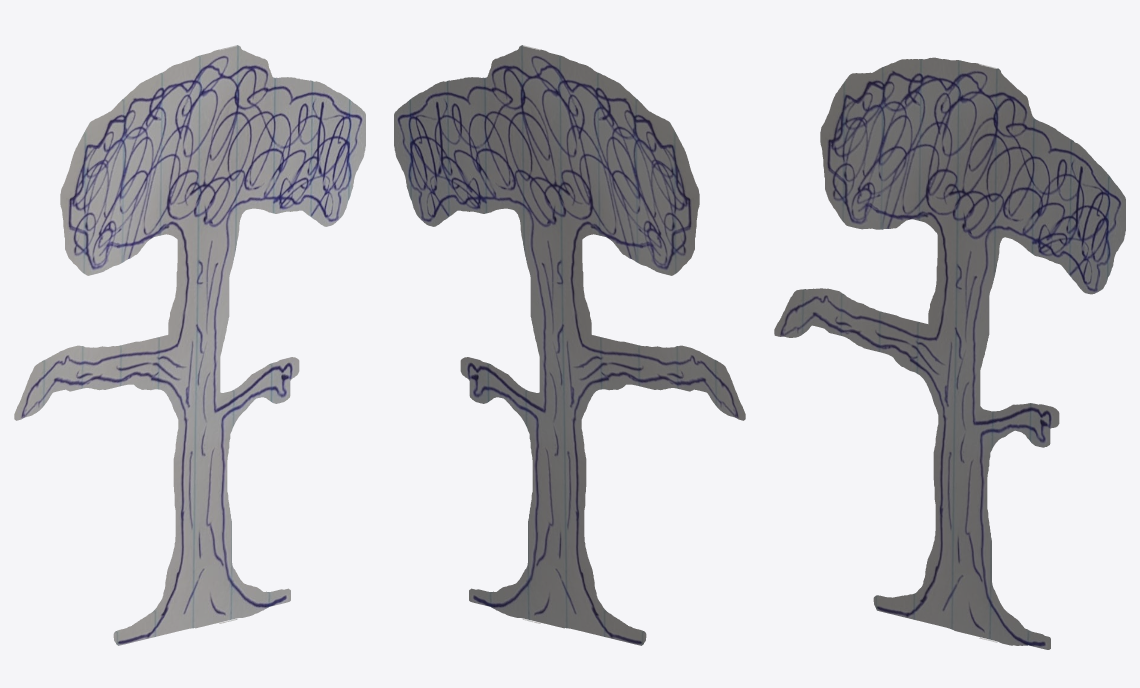
File: boom1.fbx
3 renders of one model, left to right at view 1: azimuth 30°, elevation 25°; view 2: azimuth 150°, elevation 25°; view 3: azimuth 330°, elevation 25°, orthographic.
Visible parts, largest first — view 1: Plane; view 2: Plane; view 3: Plane.
Boxes of the visible parts, x1=… form: Plane: x1=14, y1=45, x2=365, y2=645; Plane: x1=394, y1=45, x2=745, y2=645; Plane: x1=774, y1=57, x2=1125, y2=649.
Bounding box in the file's own units: 400 × 625 × 2.2.
1 material, 1 textured.
